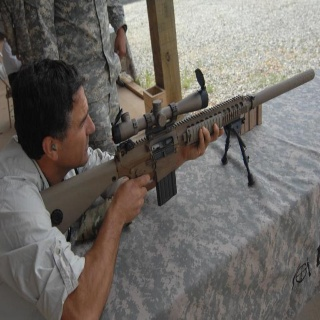rifle: (39, 67, 317, 234)
